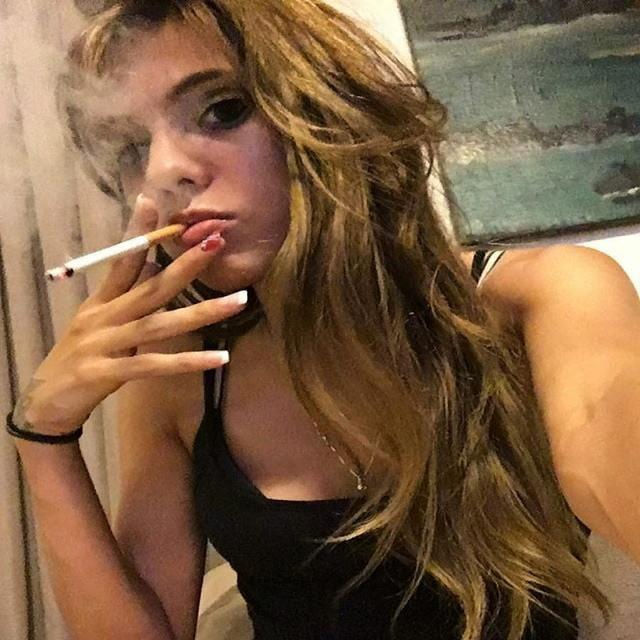cigarette: (36, 221, 195, 286)
